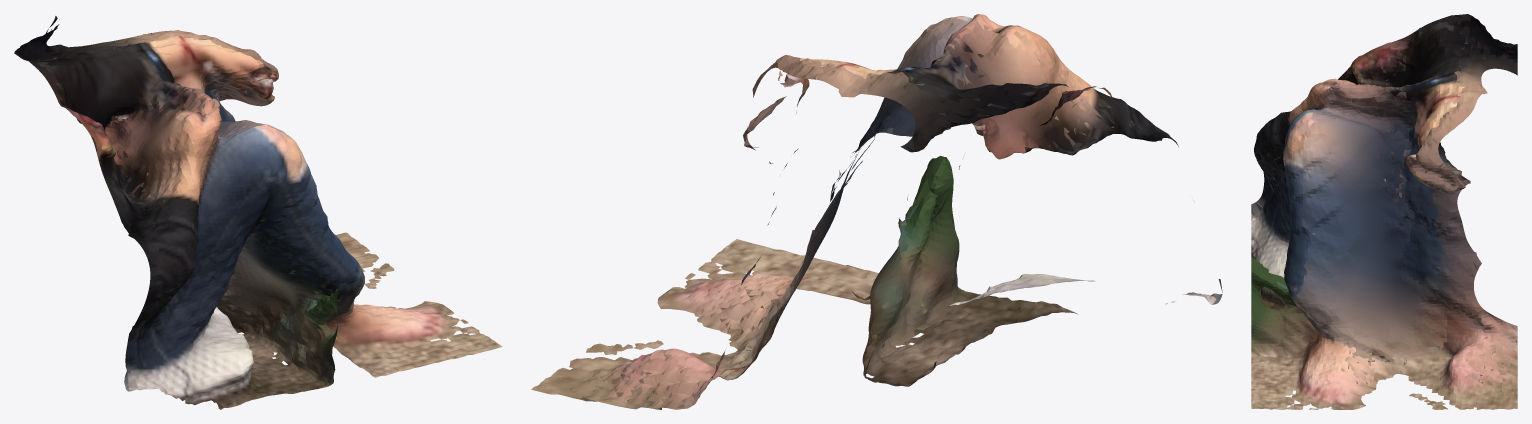
3 views of the same model, side by side, from view 1: azimuth 30°, elevation 25°; view 2: azimuth 150°, elevation 25°; view 3: azimuth 270°, elevation 25° (orthographic). The views are drawn at different scales.
Bounding box in the file's own units: 0.682 × 0.5058 × 0.4964.
Materials: 1 (1 with a texture image).
